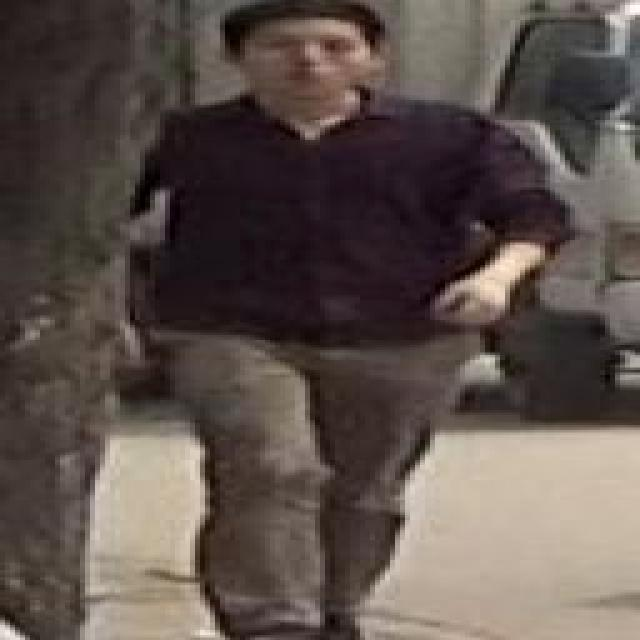adult: (165, 0, 571, 640)
